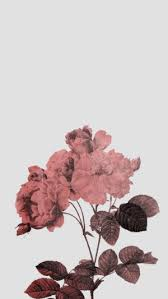flower: (14, 112, 168, 228)
